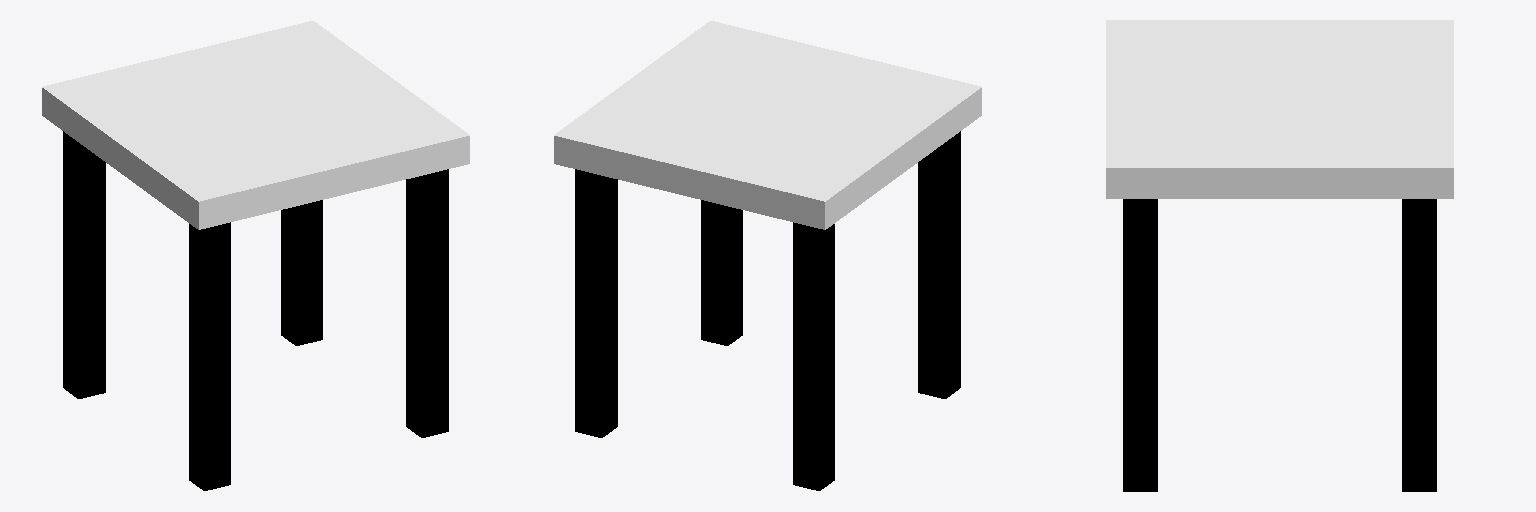
URDF robot description (table):
<?xml version="1.0" ?>
<robot name="table">
    <link name="table_top">
        <visual>
        <geometry>
            <box size="0.5 0.5 0.05"/>
        </geometry>
        <material name="white">
            <color rgba="1 1 1 1"/>
        </material>
        </visual>
    </link>
    <link name="table_leg1">
        <visual>
        <geometry>
            <box size="0.05 0.05 0.5"/>
        </geometry>
        <material name="black">
            <color rgba="0 0 0 1"/>
        </material>
        </visual>
    </link>
    <link name="table_leg2">
        <visual>
        <geometry>
            <box size="0.05 0.05 0.5"/>
        </geometry>
        <material name="black">
            <color rgba="0 0 0 1"/>
        </material>
        </visual>
    </link>
    <link name="table_leg3">
        <visual>
        <geometry>
            <box size="0.05 0.05 0.5"/>
        </geometry>
        <material name="black">
            <color rgba="0 0 0 1"/>
        </material>
        </visual>
    </link>
    <link name="table_leg4">
        <visual>
        <geometry>
            <box size="0.05 0.05 0.5"/>
        </geometry>
        <material name="black">
            <color rgba="0 0 0 1"/>
        </material>
        </visual>
    </link>
    <!-- link with stl of mustard bottle on top of table -->
    <link name="mustard">
        <visual>
        <geometry>
            <mesh filename="package://benchmark/config/mustard.stl"/>
        </geometry>
        </visual>
    </link>
    <joint name="mustard_joint" type="fixed">
        <parent link="table_top"/>
        <child link="mustard"/>
        <origin xyz="0 0 0"/>
    </joint>
    
    <joint name="table_leg1_joint" type="fixed">
        <parent link="table_top"/>
        <child link="table_leg1"/>
        <origin xyz="0.2 0.2 -0.25"/>
    </joint>
    <joint name="table_leg2_joint" type="fixed">
        <parent link="table_top"/>
        <child link="table_leg2"/>
        <origin xyz="-0.2 0.2 -0.25"/>
    </joint>
    <joint name="table_leg3_joint" type="fixed">
        <parent link="table_top"/>
        <child link="table_leg3"/>
        <origin xyz="-0.2 -0.2 -0.25"/>
    </joint>
    <joint name="table_leg4_joint" type="fixed">
        <parent link="table_top"/>
        <child link="table_leg4"/>
        <origin xyz="0.2 -0.2 -0.25"/>
    </joint>
</robot>

--- Facts derived from the render (not from the file) ---
The picture shows the robot from 3 angles, left to right: view 1: azimuth 30°, elevation 25°; view 2: azimuth 150°, elevation 25°; view 3: azimuth 270°, elevation 25°; orthographic projection.
Model table with 6 links and 5 joints (5 fixed), rooted at table_top, posed all joints at 0.
Links seen in each view (by area): view 1: table_top, table_leg4, table_leg3, table_leg2, table_leg1; view 2: table_top, table_leg1, table_leg2, table_leg3, table_leg4; view 3: table_top, table_leg1, table_leg4.
Boxes of the visible links, left/top/right/bottom form: table_top: left=42, top=21, right=469, bottom=229; table_leg4: left=406, top=169, right=448, bottom=437; table_leg3: left=189, top=222, right=230, bottom=490; table_leg2: left=63, top=131, right=105, bottom=398; table_leg1: left=281, top=200, right=322, bottom=345; table_top: left=554, top=21, right=981, bottom=229; table_leg1: left=575, top=169, right=617, bottom=437; table_leg2: left=793, top=222, right=834, bottom=490; table_leg3: left=918, top=131, right=960, bottom=398; table_leg4: left=701, top=200, right=742, bottom=345; table_top: left=1106, top=20, right=1453, bottom=198; table_leg1: left=1402, top=199, right=1436, bottom=491; table_leg4: left=1123, top=199, right=1157, bottom=491.
Bounding box of the posed robot: 0.5 × 0.5 × 0.525 m (x, y, z).
0 mesh visuals loaded from 1 distinct referenced files (none loaded); not drawn: 1 (reference not matched to a file when rendering).